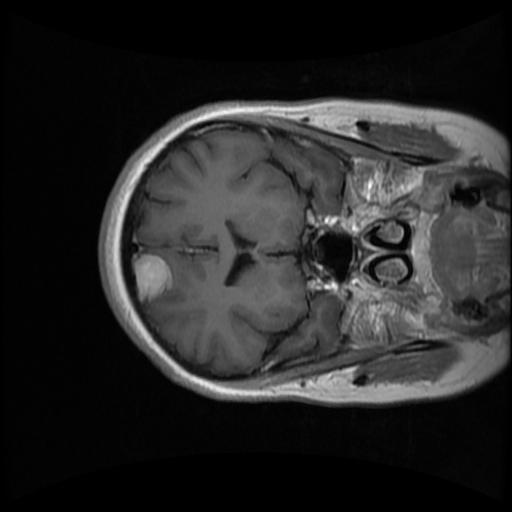meningioma: (134, 254, 171, 302)
